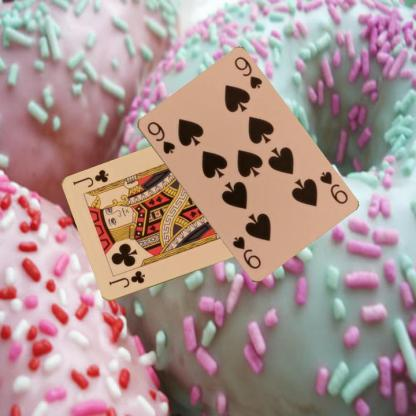9s: (144, 118, 176, 156), (317, 168, 349, 206)
Jc: (106, 268, 146, 290)
